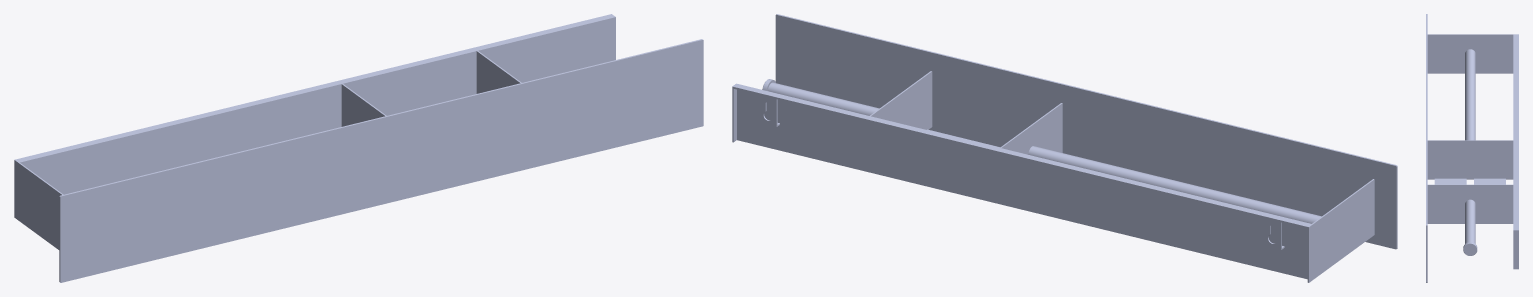
Rendered from skyline-trio.0bf8a36601.glb.
3 renders of one model, left to right at view 1: azimuth 30°, elevation 25°; view 2: azimuth 150°, elevation 25°; view 3: azimuth 270°, elevation 25°, orthographic. The views are drawn at different scales.
Visible parts, largest first — view 1: NAUO1; view 2: NAUO1; view 3: NAUO1.
Boxes of the visible parts, bbox=[...] form: NAUO1: bbox=[14, 14, 703, 282]; NAUO1: bbox=[732, 14, 1397, 282]; NAUO1: bbox=[1426, 14, 1518, 282].
Size of the model in its own units: 0.7 by 0.09 by 0.13.
